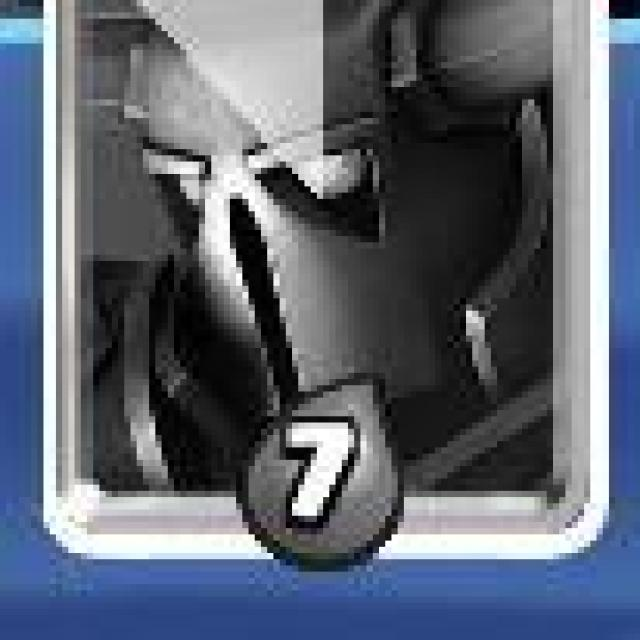Pekka: (38, 0, 608, 565)
